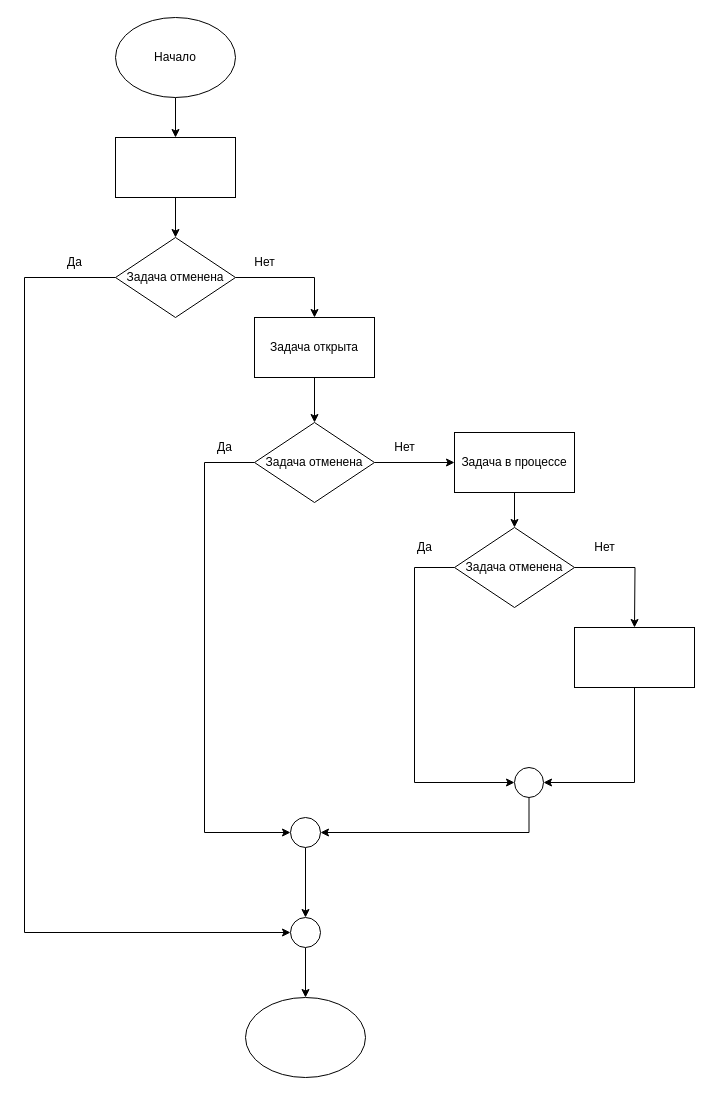
The diagram is 712 pixels wide and 1095 high, and some of its shapes have lost their labels. The centre of each missing label's shape, as x and y in pixels:
"Задача выполнена" goes at point 634,657.
"Задача создана" goes at point 175,167.
"Конец" goes at point 305,1037.
